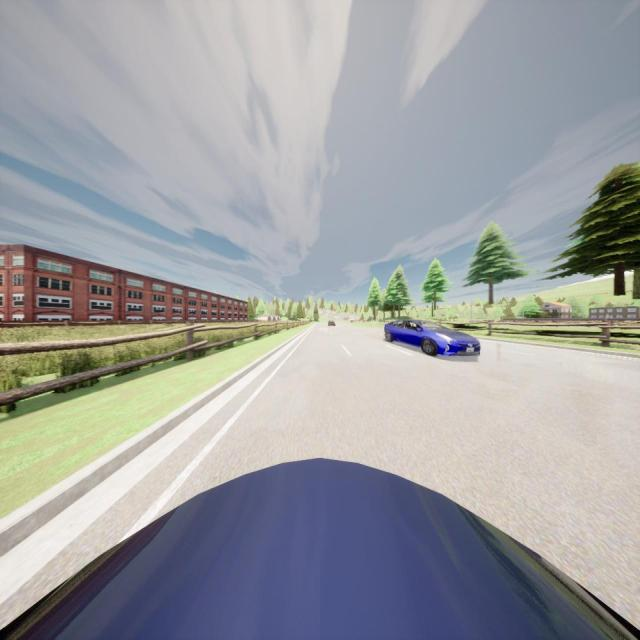Vehicle: (2, 456, 640, 640), (384, 318, 480, 355), (328, 319, 336, 326)
